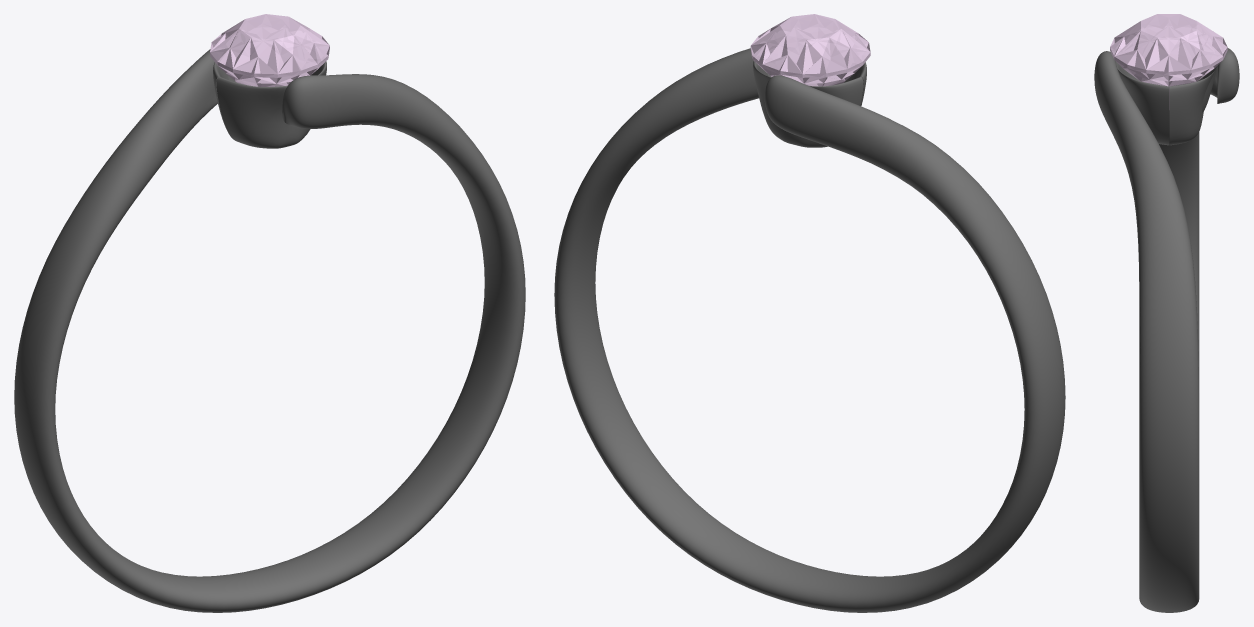
File: ring.fbx
3 renders of one model, left to right at view 1: azimuth 30°, elevation 25°; view 2: azimuth 150°, elevation 25°; view 3: azimuth 270°, elevation 25°, orthographic. The views are drawn at different scales.
Parts seen in each view (by area): view 1: Cylinder02, Cylinder01; view 2: Cylinder02, Cylinder01; view 3: Cylinder02, Cylinder01.
Boxes of the visible parts, box(x1,y1,x2,y2) form: Cylinder02: box(14, 49, 525, 612); Cylinder01: box(210, 14, 329, 86); Cylinder02: box(554, 48, 1065, 612); Cylinder01: box(750, 14, 870, 86); Cylinder02: box(1094, 48, 1239, 612); Cylinder01: box(1110, 14, 1227, 109).
Bounding box in the file's own units: 1.35 × 1.49 × 0.3519.
